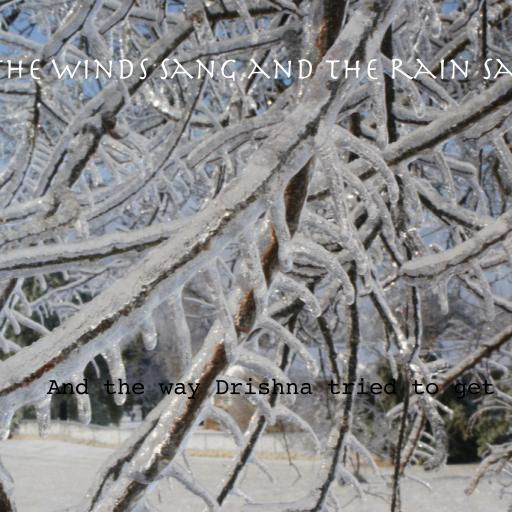Courier: (47, 377, 495, 399)
Herculanum: (0, 58, 512, 82)
